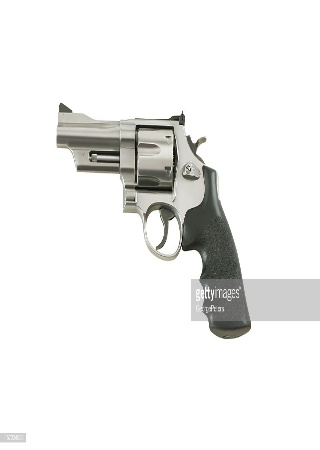handgun: (45, 96, 258, 338)
